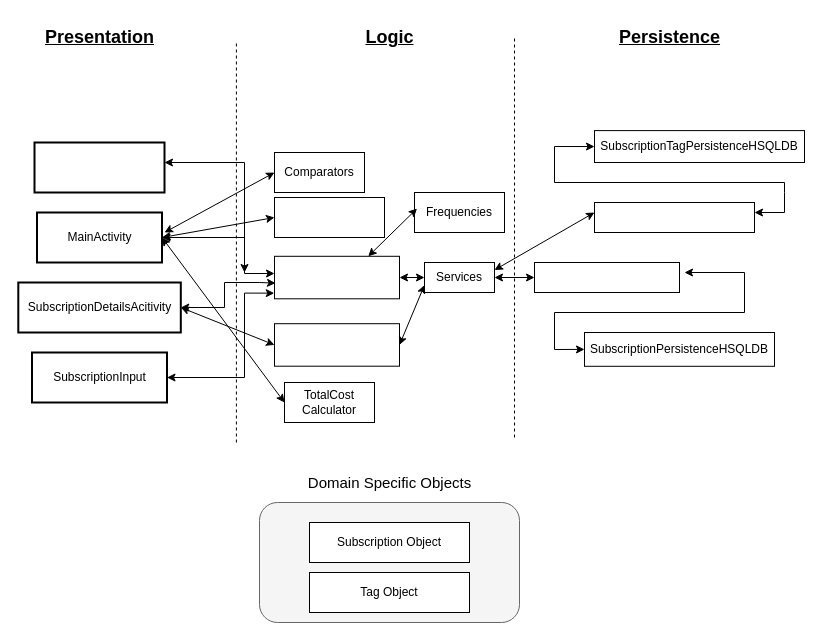
Some shapes in this 822 by 640 pixel diagram are drawn without their labels. The shapes that lost their labels are listed below. From the top down, each one's centre as x and y in pixels, then its label:
At [99,167]: "AddSubscriptionActivity".
At [329,217]: "SubscriptionFilter".
At [674,217]: "SubscriptionTagPersistence".
At [337,277]: "SubscriptionHandler".
At [607,277]: "SubscriptionPersistence".
At [337,344]: "SubscriptionTagHander".
